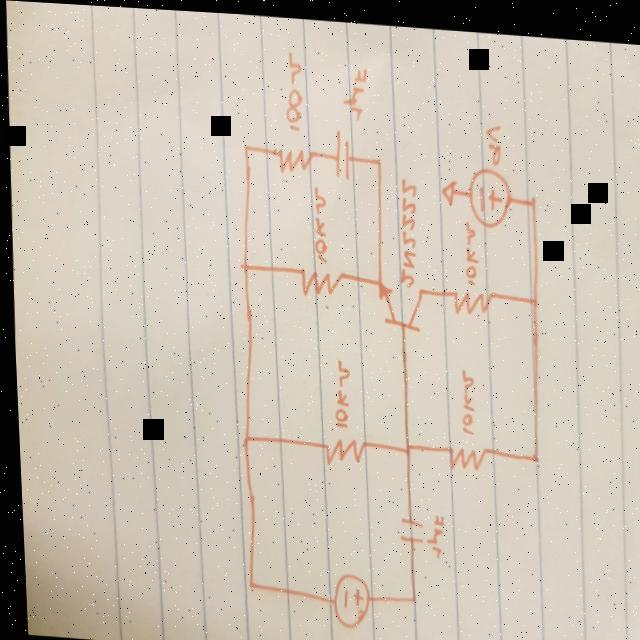capacitor: (331, 123, 350, 177), (393, 510, 419, 539)
ground: (438, 173, 455, 201)
junction: (236, 257, 248, 270), (399, 436, 408, 450), (239, 429, 247, 444), (373, 149, 382, 162), (527, 186, 534, 201), (527, 445, 536, 456), (242, 575, 249, 586), (241, 141, 249, 150), (528, 289, 535, 299), (406, 589, 412, 598)
resistor: (295, 260, 344, 296), (320, 432, 365, 463), (442, 433, 483, 466), (451, 280, 491, 310), (276, 143, 313, 173)
source: (466, 160, 511, 223), (325, 566, 367, 625)
text: (394, 170, 418, 284), (282, 43, 303, 130), (340, 59, 369, 120), (328, 352, 349, 425), (310, 179, 328, 262), (455, 359, 474, 430), (420, 506, 442, 554), (461, 214, 476, 282), (483, 112, 501, 161)
transistor: (373, 272, 422, 327)
